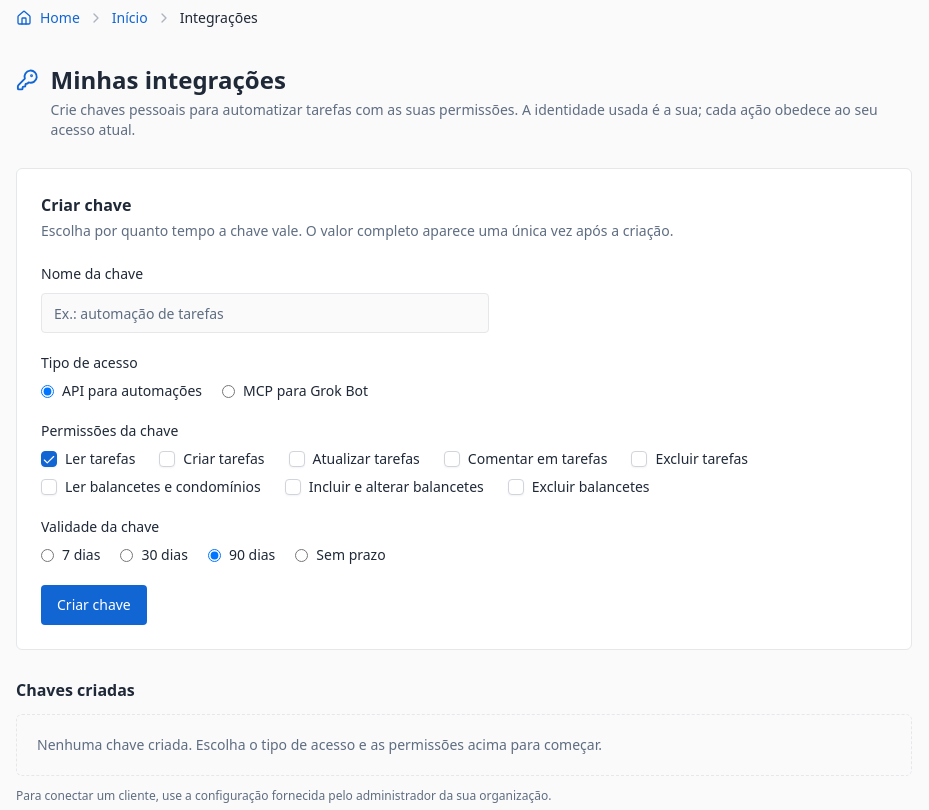
Test: personal integration keys › key lifetime › creates the key expiring in the chosen number of days ({})
Expected: the text "Nenhuma chave" is shown, 37,735 -> 602,754
Type "Robô" into the field labelled "Nome da chave" at (265, 313), box 41,293 -> 489,333
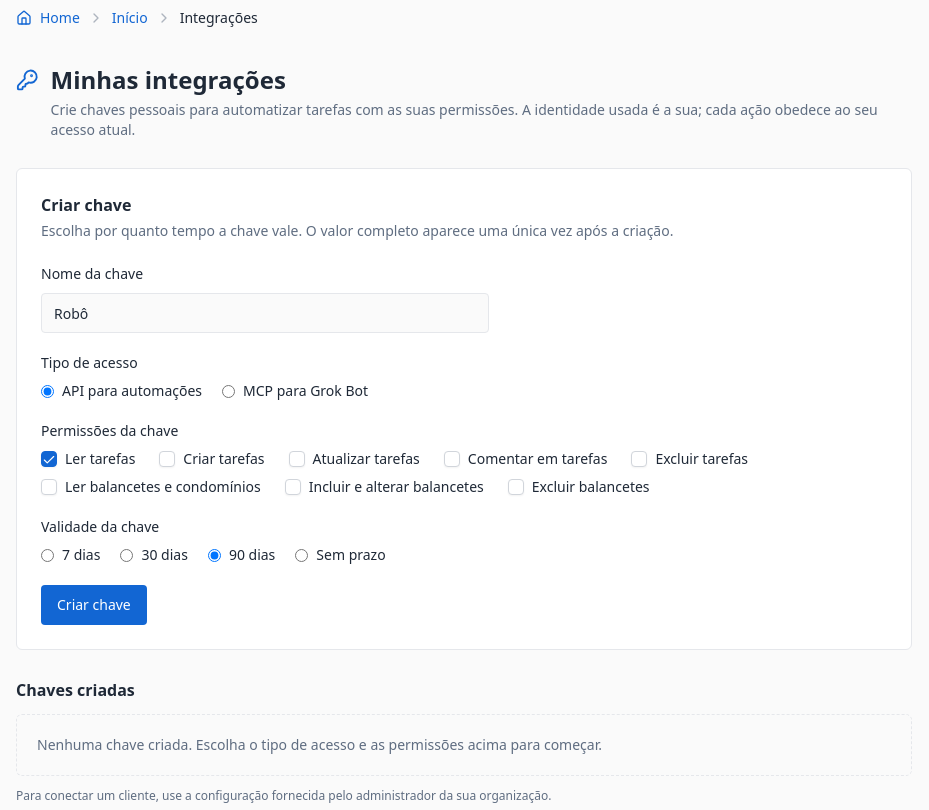
Click the radio button labelled "7 dias" at (48, 555), box 41,548 -> 54,562
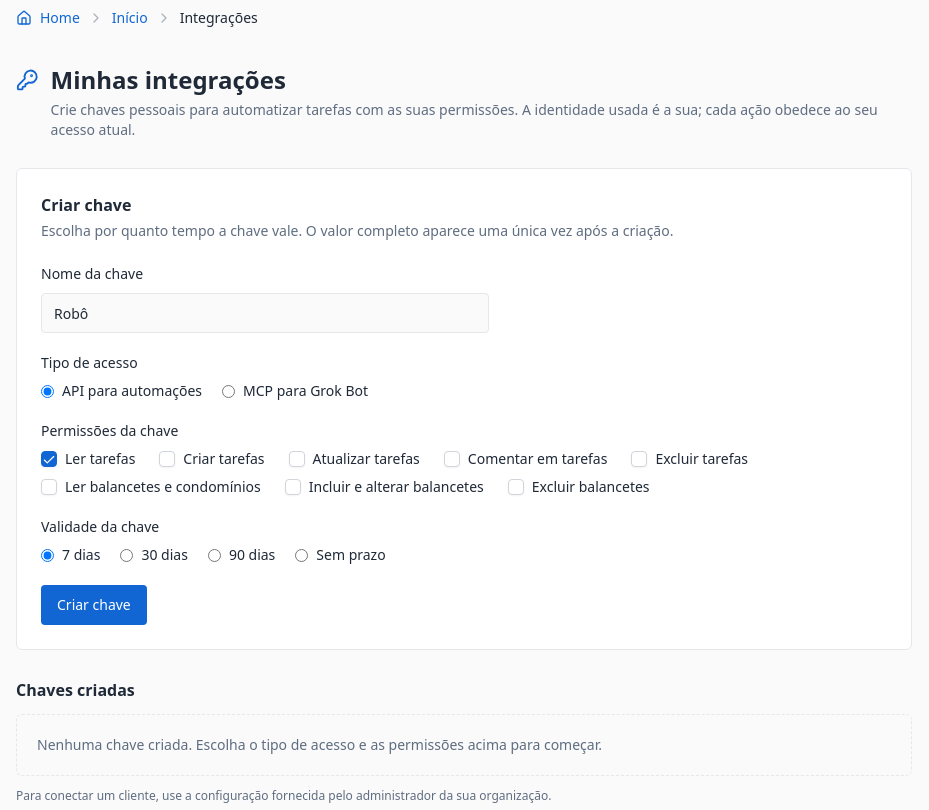
Click the button "Criar chave" at (94, 605), box 41,585 -> 147,625
(page scrolled)
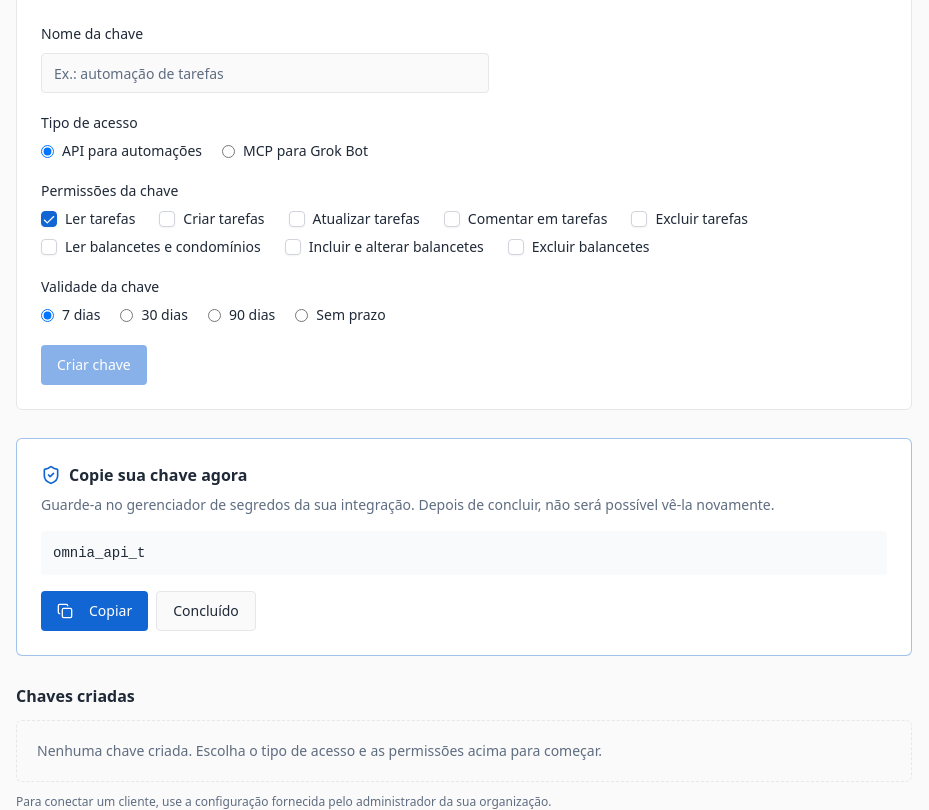
Expected: the text "omnia_api_t" is shown, 41,531 -> 887,575
